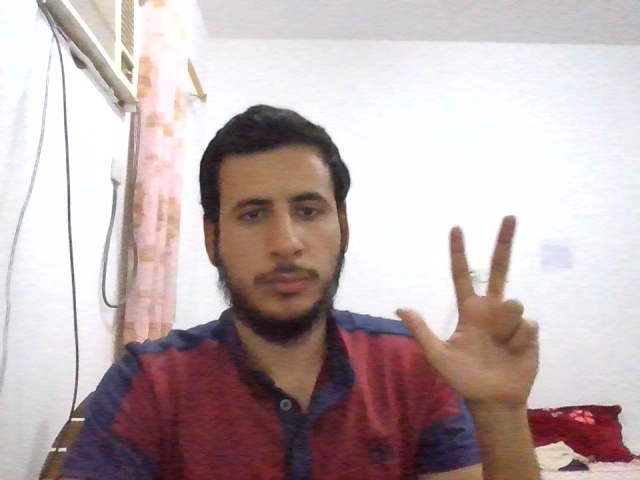Three: (395, 215, 541, 407)
